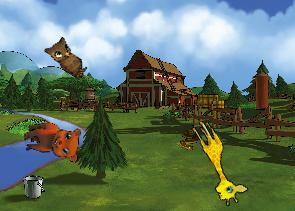bear: (22, 121, 82, 164)
giraffe: (180, 116, 251, 209)
owl: (41, 32, 95, 80)
